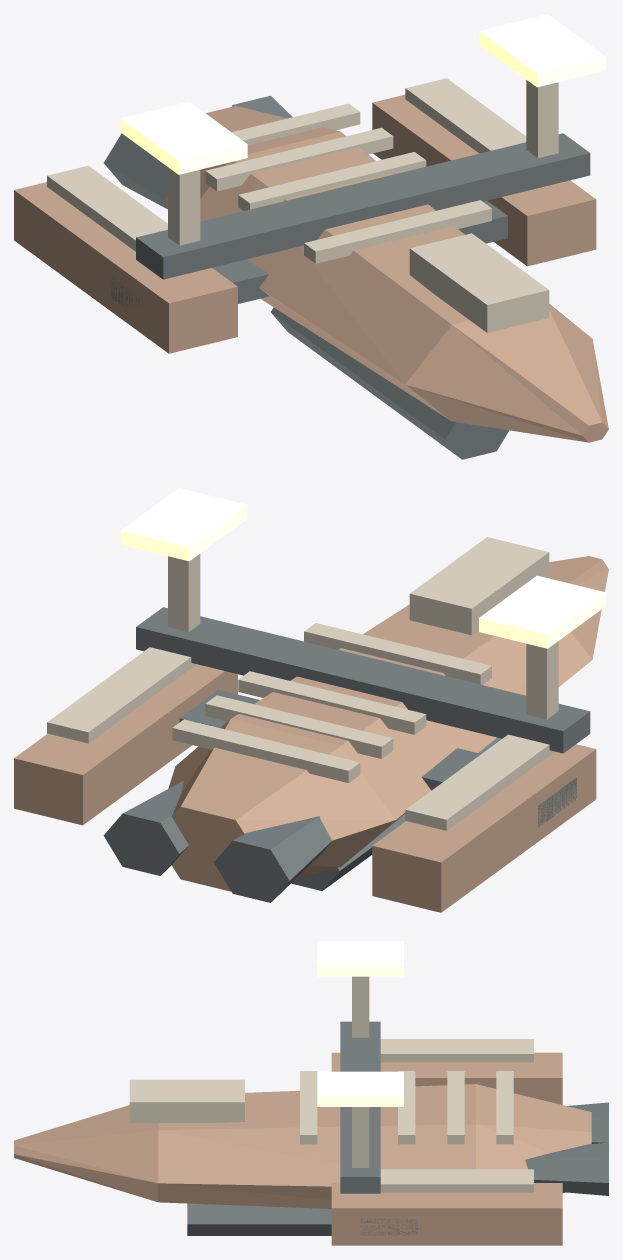
3 renders of one model, top to bottom at view 1: azimuth 30°, elevation 25°; view 2: azimuth 150°, elevation 25°; view 3: azimuth 270°, elevation 25°, orthographic. The views are drawn at different scales.
Bounding box in the file's own units: 2.88 × 1.82 × 4.66.
